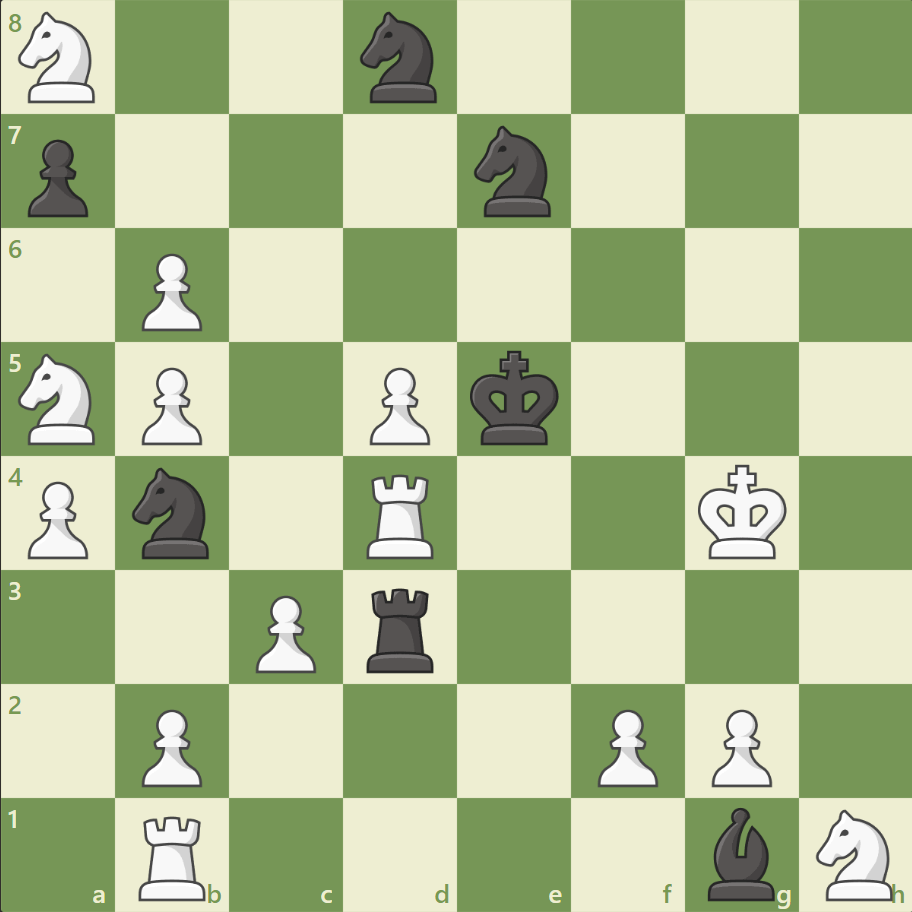K: (692, 458, 792, 566)
N: (11, 7, 108, 110), (11, 348, 108, 450), (806, 802, 903, 904)
P: (133, 246, 208, 337), (133, 359, 208, 450), (20, 473, 95, 564), (247, 586, 322, 677), (133, 700, 208, 791), (701, 700, 776, 791), (361, 359, 435, 450), (588, 700, 662, 791)
R: (133, 806, 215, 904), (360, 466, 442, 563)
b: (698, 801, 782, 904)
k: (465, 344, 565, 452)
n: (351, 7, 449, 110), (124, 461, 222, 564), (465, 121, 562, 223)
p: (20, 132, 95, 223)
r: (360, 579, 442, 676)
